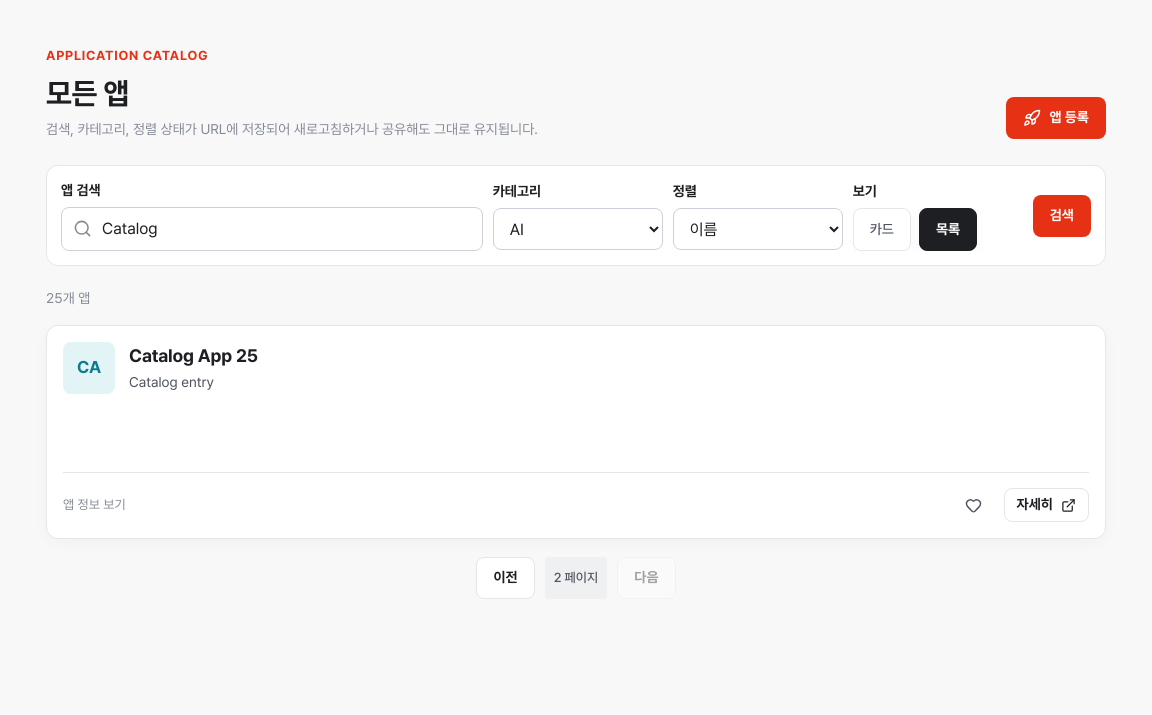
Test case: Apps route state › still resets to page one after a sort change
Expected: the heading "Catalog App 25" is shown, 129,343 -> 258,369
Select "최근 업데이트" in the dropdown labelled "정렬" at (758, 229), box 673,208 -> 843,250
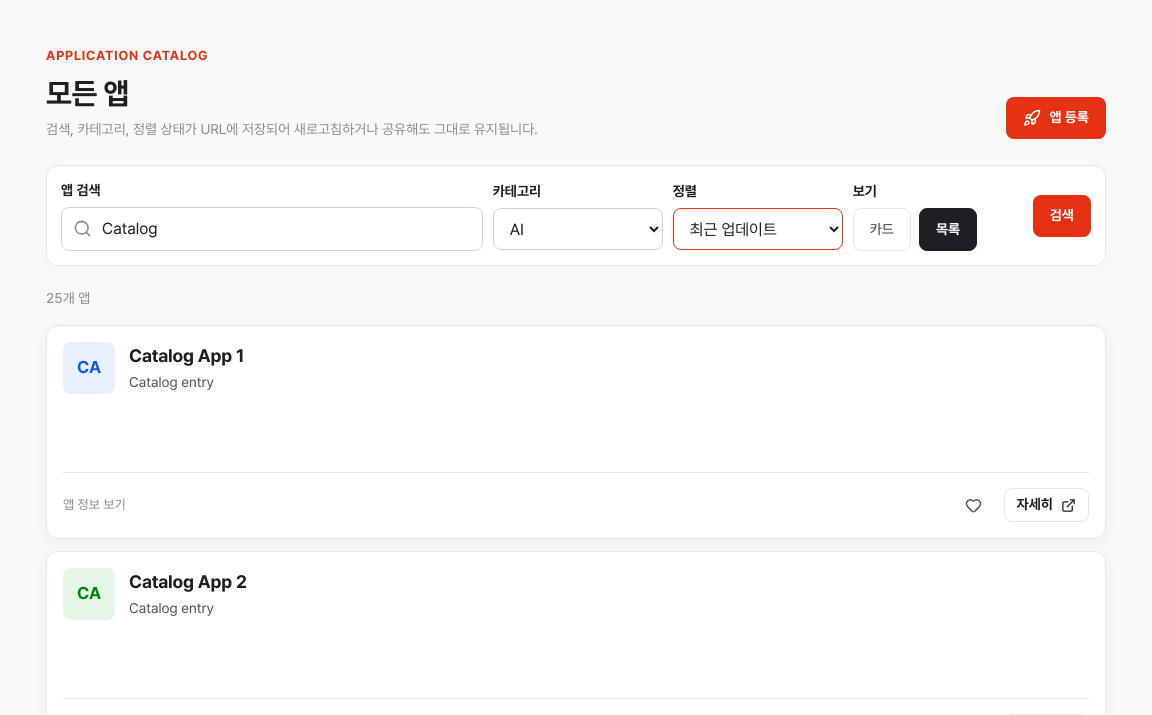
Result: the heading "Catalog App 1" is shown at 129,343 -> 244,369
